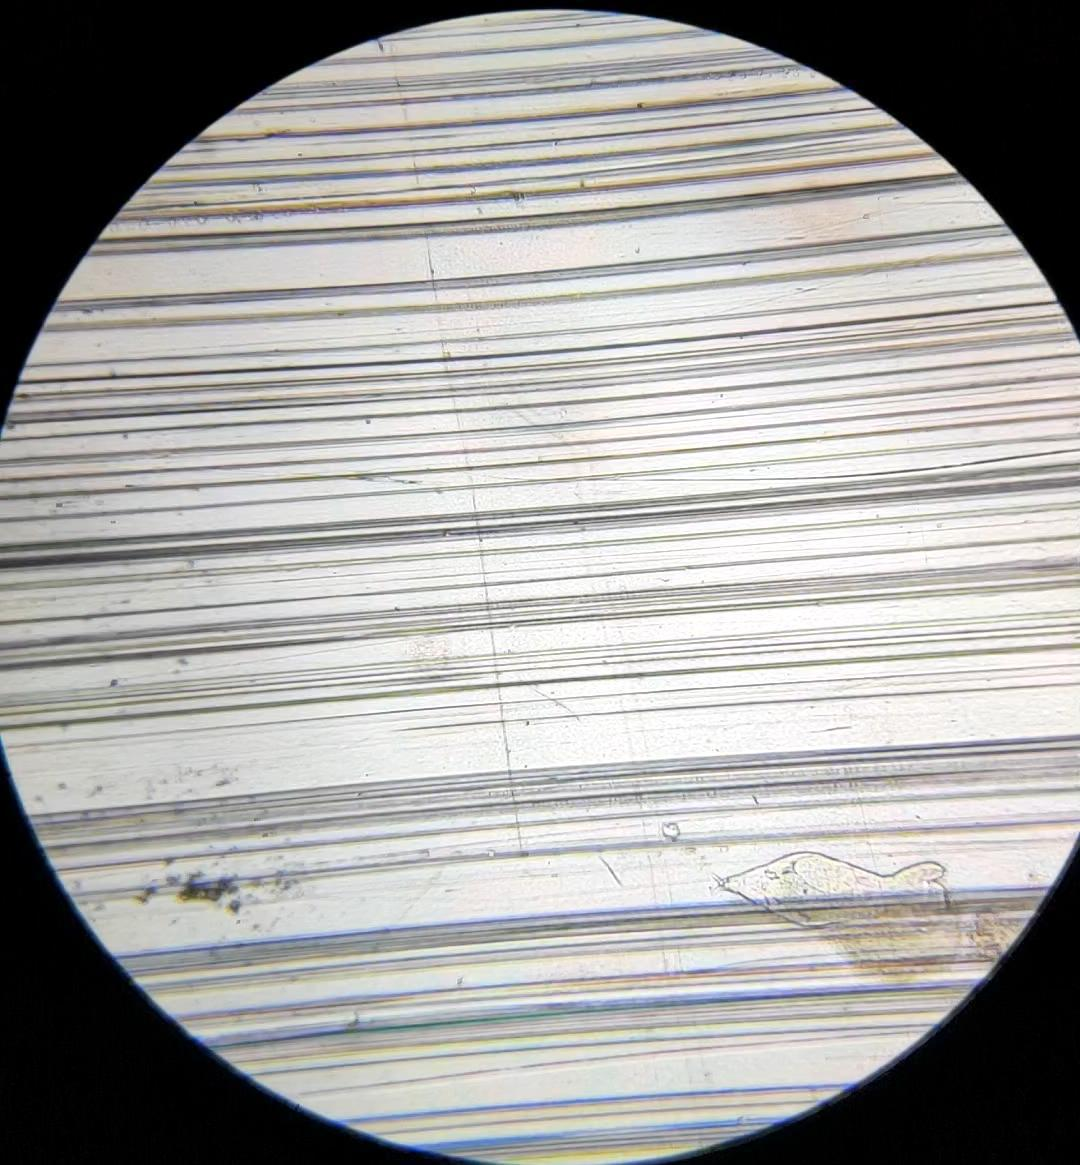Do: (711, 852, 948, 927)
